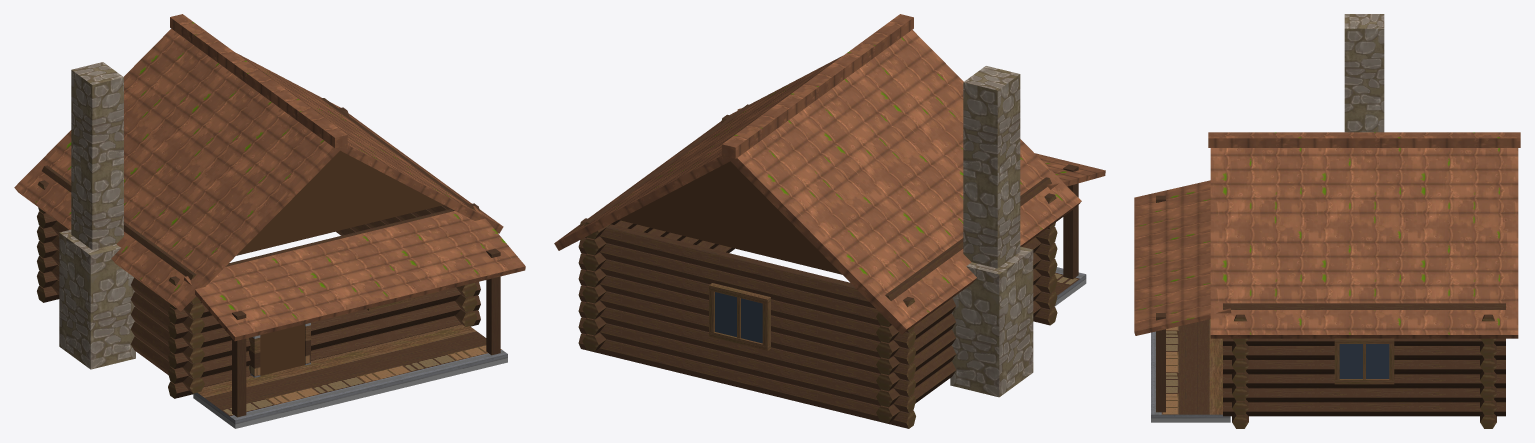
File: log_cabin.glb
3 views of the same model, side by side, from view 1: azimuth 30°, elevation 25°; view 2: azimuth 150°, elevation 25°; view 3: azimuth 270°, elevation 25° (orthographic). The views are drawn at different scales.
Parts seen in each view (by area): view 1: RoofSlab.034, PorchRoof.064, Porch.061, Chimney.060, Chimney.059, Gable.035, RoofSlab.033, Ridge.036, Log.005, Log.009, Log.001, Door.037 (+12 smaller); view 2: RoofSlab.034, Chimney.060, Chimney.059, Gable.035, RoofSlab.033, Log.030, Log.002, Log.006, Log.010, Ridge.036, Log.026, Log.014 (+14 smaller); view 3: RoofSlab.033, PorchRoof.064, Porch.061, Ridge.036, Chimney.060, Log.004, Log.008, Log.012, Log.016, Log.020, Log.032, Window.047 (+2 smaller).
Part boxes in pixels (x1=…): RoofSlab.034: x1=14, y1=28, x2=339, y2=311; PorchRoof.064: x1=184, y1=206, x2=525, y2=341; Porch.061: x1=193, y1=324, x2=507, y2=428; Chimney.060: x1=71, y1=62, x2=123, y2=249; Chimney.059: x1=59, y1=229, x2=135, y2=369; Gable.035: x1=236, y1=150, x2=443, y2=255; RoofSlab.033: x1=236, y1=53, x2=503, y2=233; Ridge.036: x1=170, y1=14, x2=347, y2=148; Log.005: x1=168, y1=295, x2=480, y2=383; Log.009: x1=168, y1=282, x2=480, y2=368; Log.001: x1=168, y1=310, x2=480, y2=398; Door.037: x1=260, y1=324, x2=304, y2=375; RoofSlab.034: x1=728, y1=30, x2=1081, y2=334; Chimney.060: x1=963, y1=66, x2=1020, y2=268; Chimney.059: x1=950, y1=246, x2=1033, y2=397; Gable.035: x1=619, y1=161, x2=841, y2=274; RoofSlab.033: x1=554, y1=56, x2=842, y2=250; Log.030: x1=579, y1=218, x2=914, y2=308; Log.002: x1=578, y1=333, x2=915, y2=428; Log.006: x1=578, y1=317, x2=915, y2=412; Log.010: x1=578, y1=301, x2=915, y2=396; Ridge.036: x1=722, y1=14, x2=913, y2=158; Log.026: x1=578, y1=237, x2=914, y2=332; Log.014: x1=578, y1=285, x2=915, y2=380; RoofSlab.033: x1=1210, y1=148, x2=1518, y2=338; PorchRoof.064: x1=1134, y1=180, x2=1231, y2=335; Porch.061: x1=1151, y1=319, x2=1230, y2=422; Ridge.036: x1=1208, y1=132, x2=1520, y2=147; Chimney.060: x1=1344, y1=14, x2=1384, y2=132; Log.004: x1=1223, y1=402, x2=1505, y2=416; Log.008: x1=1223, y1=388, x2=1505, y2=402; Log.012: x1=1223, y1=374, x2=1505, y2=388; Log.016: x1=1223, y1=360, x2=1505, y2=374; Log.020: x1=1223, y1=346, x2=1505, y2=359; Log.032: x1=1223, y1=303, x2=1505, y2=309; Window.047: x1=1339, y1=344, x2=1389, y2=378.
Size of the model in its own units: 7.65 by 5.87 by 7.79.
5 materials, 3 textured.
